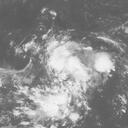cyclone: (36, 40, 105, 95)
